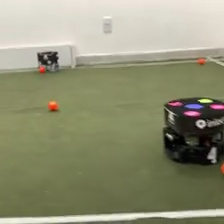ball: (47, 98, 58, 111), (197, 56, 206, 65), (38, 65, 45, 73)
goal: (1, 42, 77, 72)
robot: (161, 95, 224, 167), (35, 50, 61, 74)
